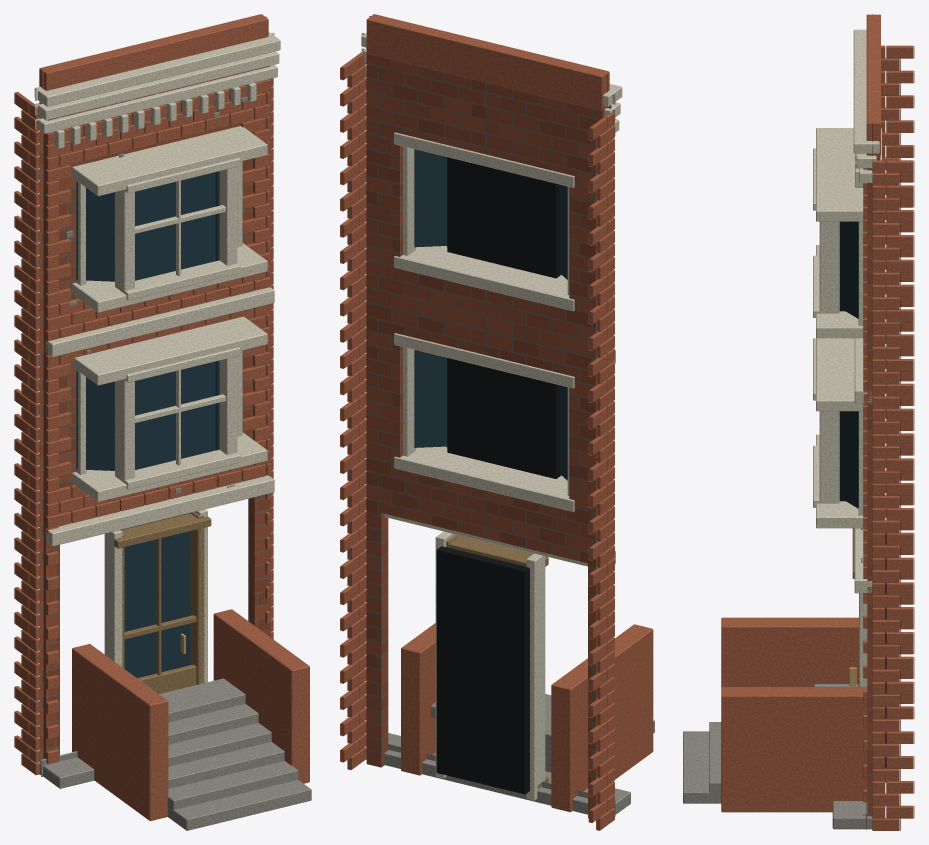
The model's file is VICT25_lod0.glb.
3 views of the same model, side by side, from view 1: azimuth 30°, elevation 25°; view 2: azimuth 150°, elevation 25°; view 3: azimuth 270°, elevation 25° (orthographic). The views are drawn at different scales.
Visible parts, largest first — view 1: VICT25_FRONT_LOD0; view 2: VICT25_FRONT_LOD0; view 3: VICT25_FRONT_LOD0.
Boxes of the visible parts, <box> form: VICT25_FRONT_LOD0: <box>14,14,311,830</box>; VICT25_FRONT_LOD0: <box>340,14,654,830</box>; VICT25_FRONT_LOD0: <box>683,14,914,830</box>.
Bounding box in the file's own units: 3.44 × 9.66 × 2.88.
11 materials, 8 textured.
